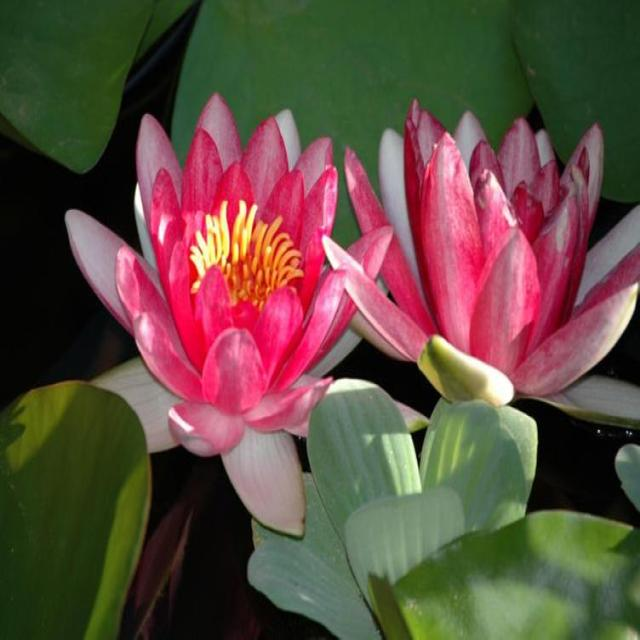water-lily: (61, 77, 346, 478), (345, 70, 622, 456)
